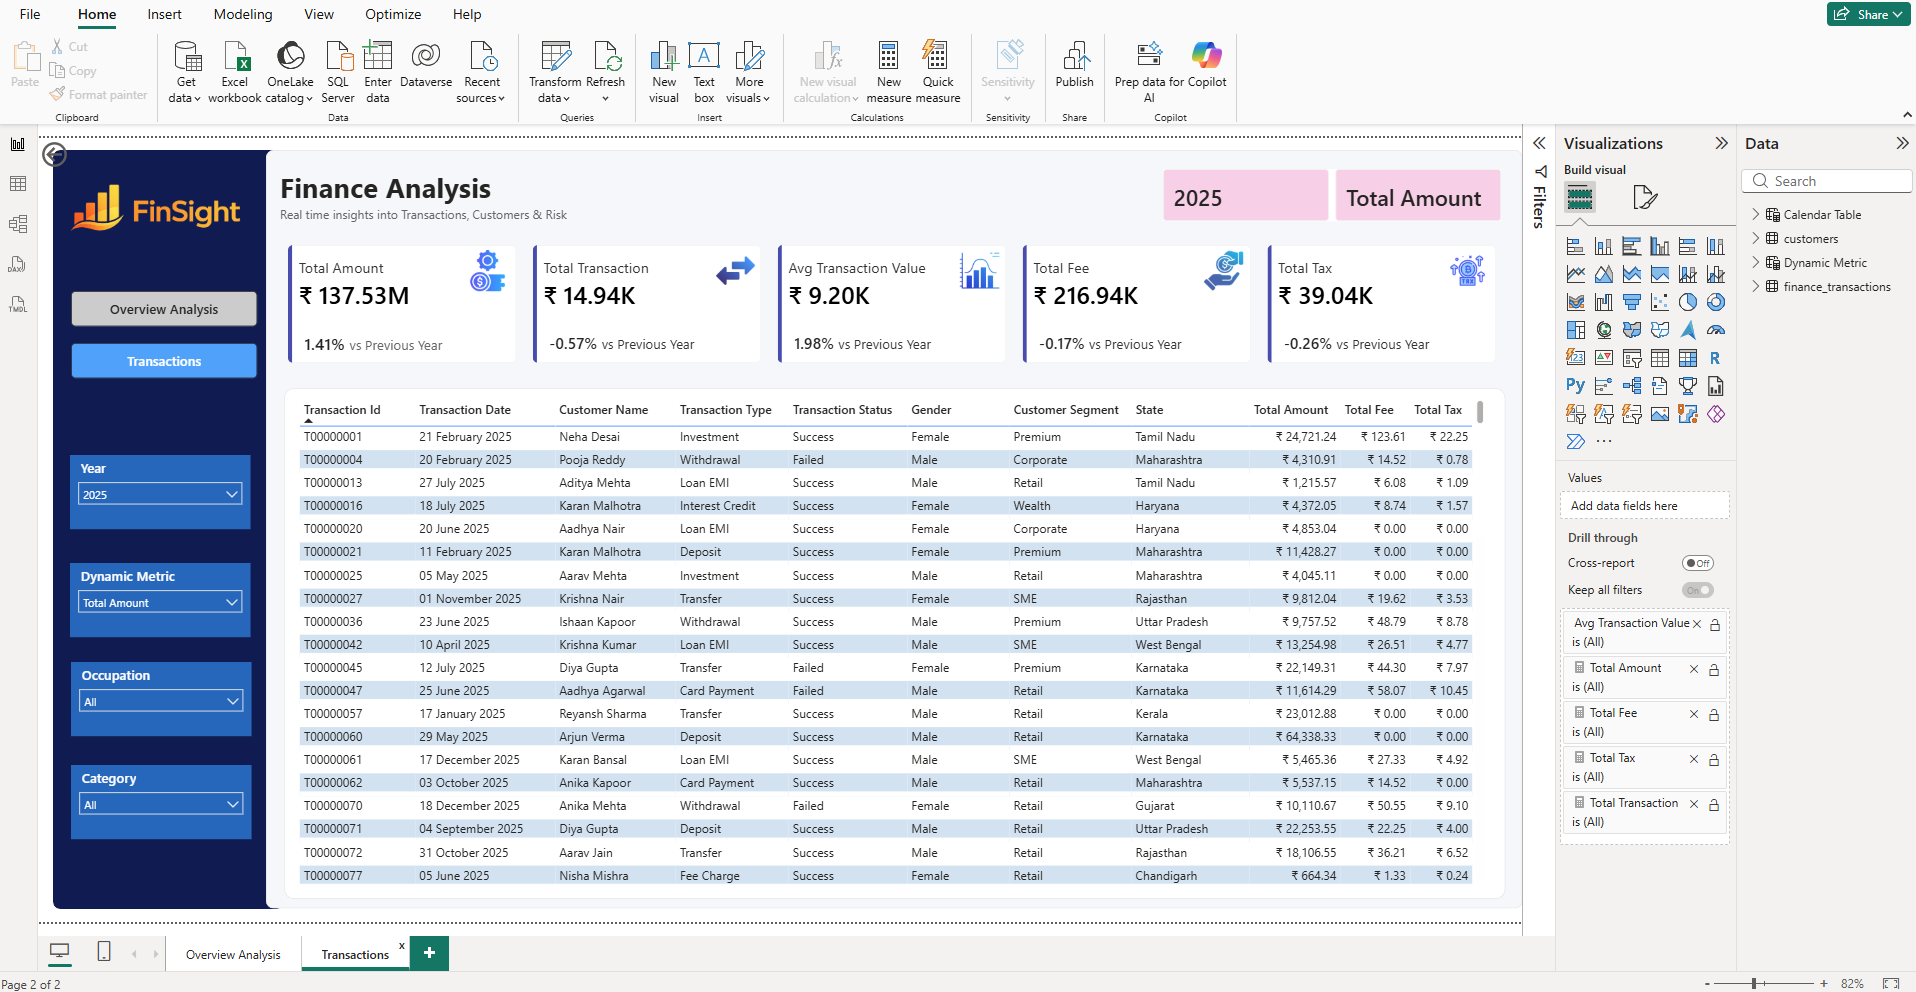

What the dashboard file says about the page in this screenshot:
{"tool":"powerbi","page":{"name":"Transactions","canvas":[1800,950],"ordinal":1},"visuals":[{"type":"shape","box":[18,14.7,279.6,920.6],"z":0},{"type":"shape","box":[276.7,15,1524,920],"z":1000},{"type":"cardVisual","fields":{"Data":["finance_transactions.Dashboard Title"]},"box":[276.3,14.7,392.4,109.6],"z":2000},{"type":"image","box":[31.1,34.3,227.3,101.4],"z":3000},{"type":"cardVisual","fields":{"Data":["finance_transactions.Total Amount","finance_transactions.Total Transaction","finance_transactions.Average Transaction Value","finance_transactions.Total Fee","finance_transactions.Total Tax"]},"box":[297.6,124.3,1481.5,155],"z":4000},{"type":"image","box":[520,135.7,50,50],"z":5000},{"type":"image","box":[820.9,135.7,50,50],"z":6000},{"type":"image","box":[1412.8,135.7,50,50],"z":7000},{"type":"image","box":[1116.8,135.7,50,50],"z":8000},{"type":"image","box":[1708.8,135.7,50,50],"z":9000},{"type":"shape","box":[298.3,303.3,1481.7,620],"z":10000},{"type":"cardVisual","fields":{"Data":["finance_transactions.Selected Year","Min(Dynamic Metric.Dynamic Title)"]},"box":[1360,33.3,420,73.3],"z":11000},{"type":"tableEx","fields":{"Values":["finance_transactions.transaction_id","finance_transactions.transaction_date","customers.customer_name","finance_transactions.transaction_type","finance_transactions.transaction_status","customers.gender","customers.customer_segment","customers.state","finance_transactions.Total Amount","finance_transactions.Total Fee","finance_transactions.Total Tax"]},"box":[311.7,313.3,1446.7,596.7],"z":12000},{"type":"actionButton","box":[0,0,100,40],"z":13000},{"type":"slicer","fields":{"Values":["Calendar Table.Year"]},"box":[39.2,384.3,219.1,89.9],"z":14000},{"type":"slicer","fields":{"Values":["Dynamic Metric.Dynamic Metric"]},"box":[39.2,515.1,219.1,89.9],"z":15000},{"type":"slicer","fields":{"Values":["customers.occupation"]},"box":[40,635,219.1,89.9],"z":16000},{"type":"slicer","fields":{"Values":["finance_transactions.merchant_category"]},"box":[40,760,219.1,89.9],"z":17000},{"type":"pageNavigator","box":[40,185,226.7,106.7],"z":18000}]}

Visuals, with their boxes on the page's 1800x950 design canvas (x1, y1, x2, y2). These are canvas units, not pixel positions in the 1916x992 screenshot, which may show the page scaled, cropped or inside an application window:
shape: 18 15 298 935
shape: 277 15 1801 935
cardVisual - finance_transactions.Dashboard Title: 276 15 669 124
image: 31 34 258 136
cardVisual - finance_transactions.Total Amount x finance_transactions.Total Transaction: 298 124 1779 279
image: 520 136 570 186
image: 821 136 871 186
image: 1413 136 1463 186
image: 1117 136 1167 186
image: 1709 136 1759 186
shape: 298 303 1780 923
cardVisual - finance_transactions.Selected Year x Min(Dynamic Metric.Dynamic Title): 1360 33 1780 107
tableEx - finance_transactions.transaction_id x finance_transactions.transaction_date: 312 313 1758 910
actionButton: 0 0 100 40
slicer - Calendar Table.Year: 39 384 258 474
slicer - Dynamic Metric.Dynamic Metric: 39 515 258 605
slicer - customers.occupation: 40 635 259 725
slicer - finance_transactions.merchant_category: 40 760 259 850
pageNavigator: 40 185 267 292
